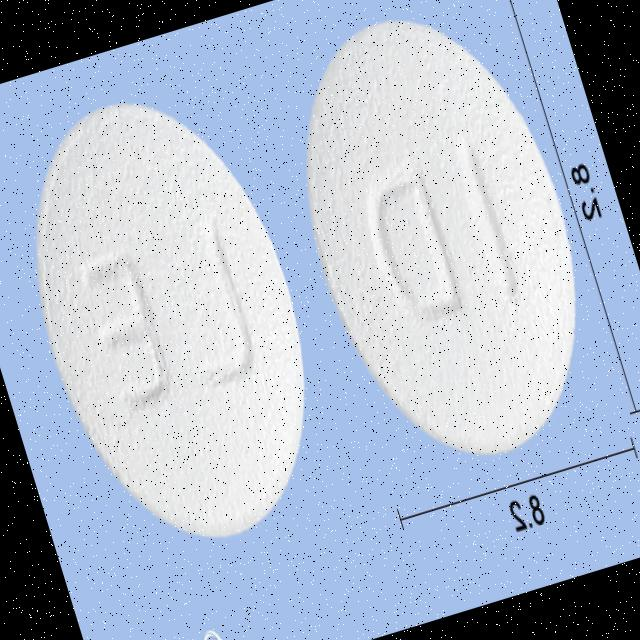Levofexin - 250mg: (259, 0, 625, 488), (0, 69, 351, 572)
